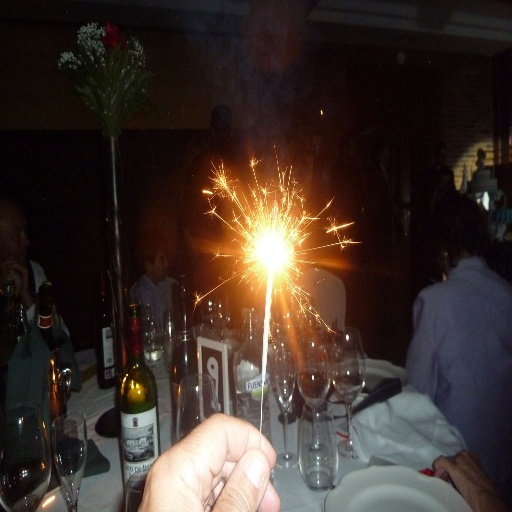hand: (134, 409, 280, 511), (429, 447, 493, 511), (2, 257, 34, 296), (0, 268, 22, 300)
